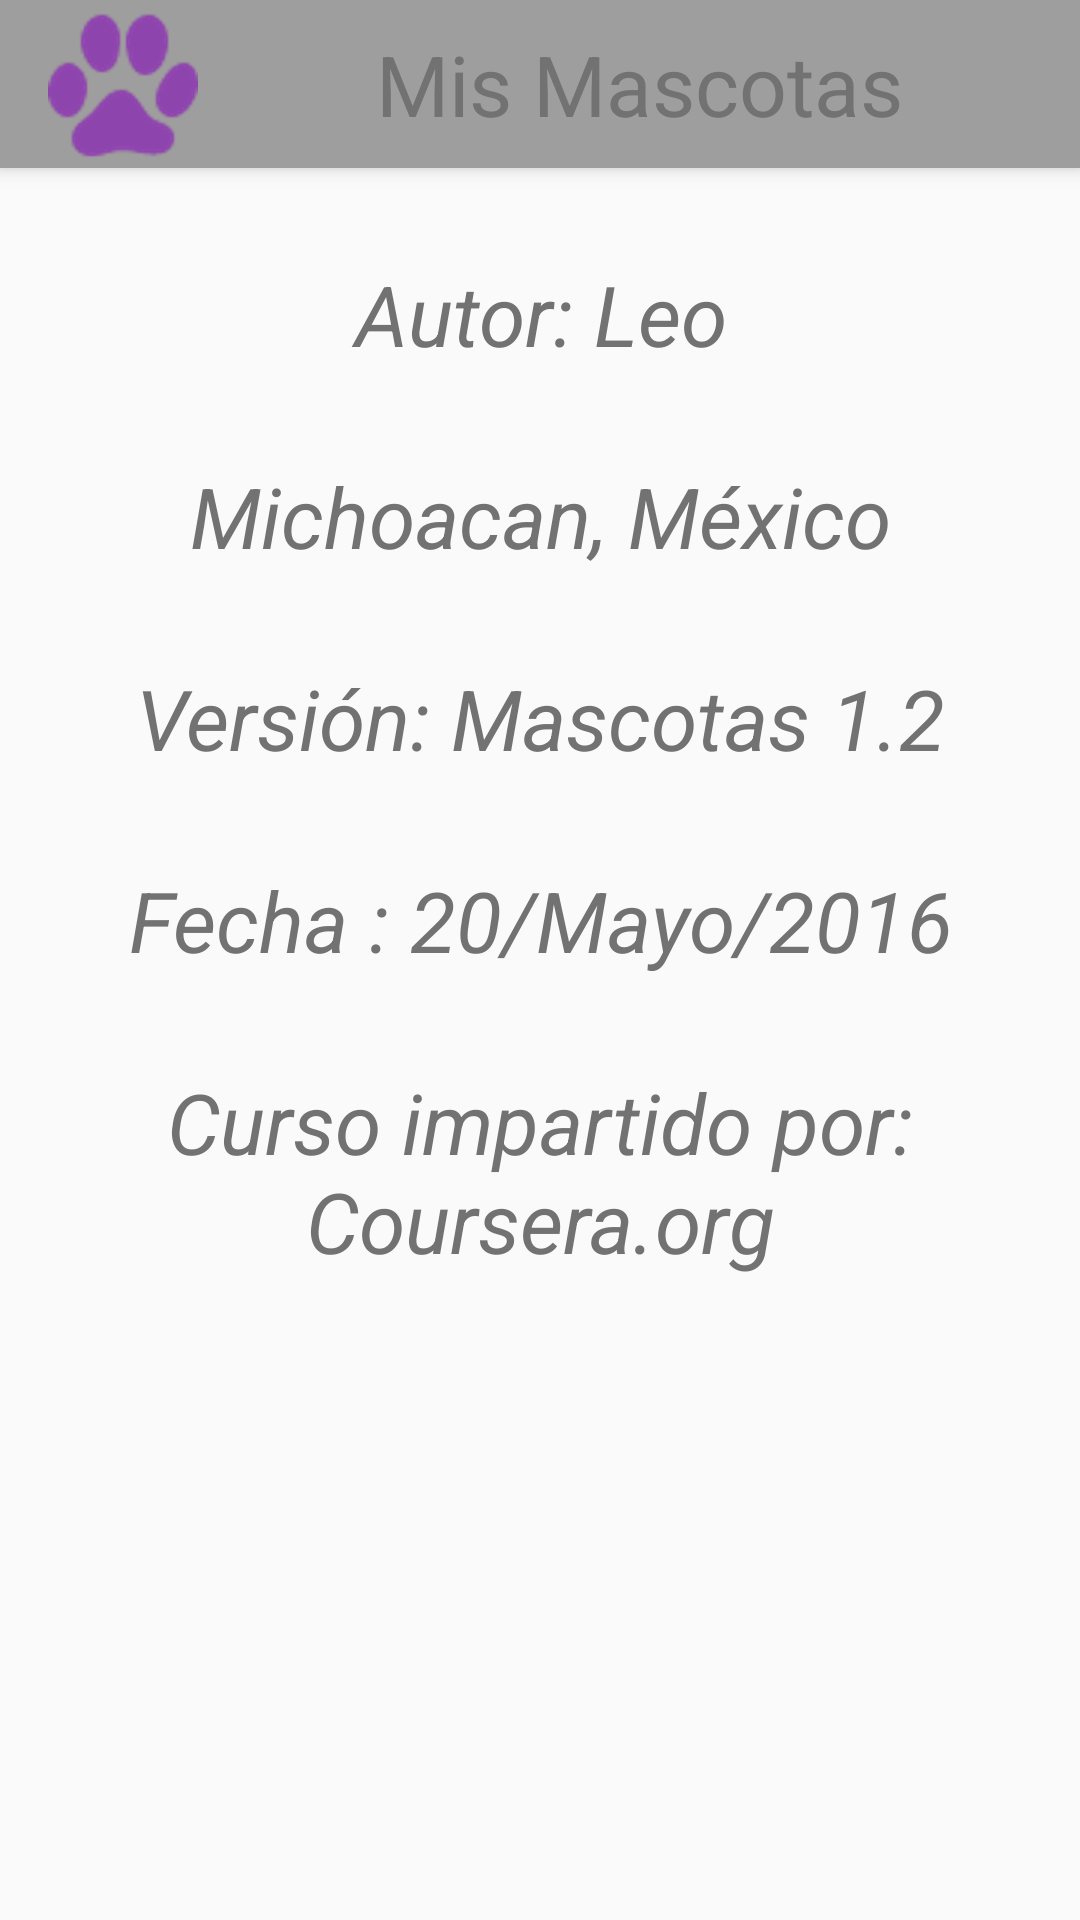

Where to tap for icons on this 1080x1920 app screen, as (x,y):
footprint: (123,85)
